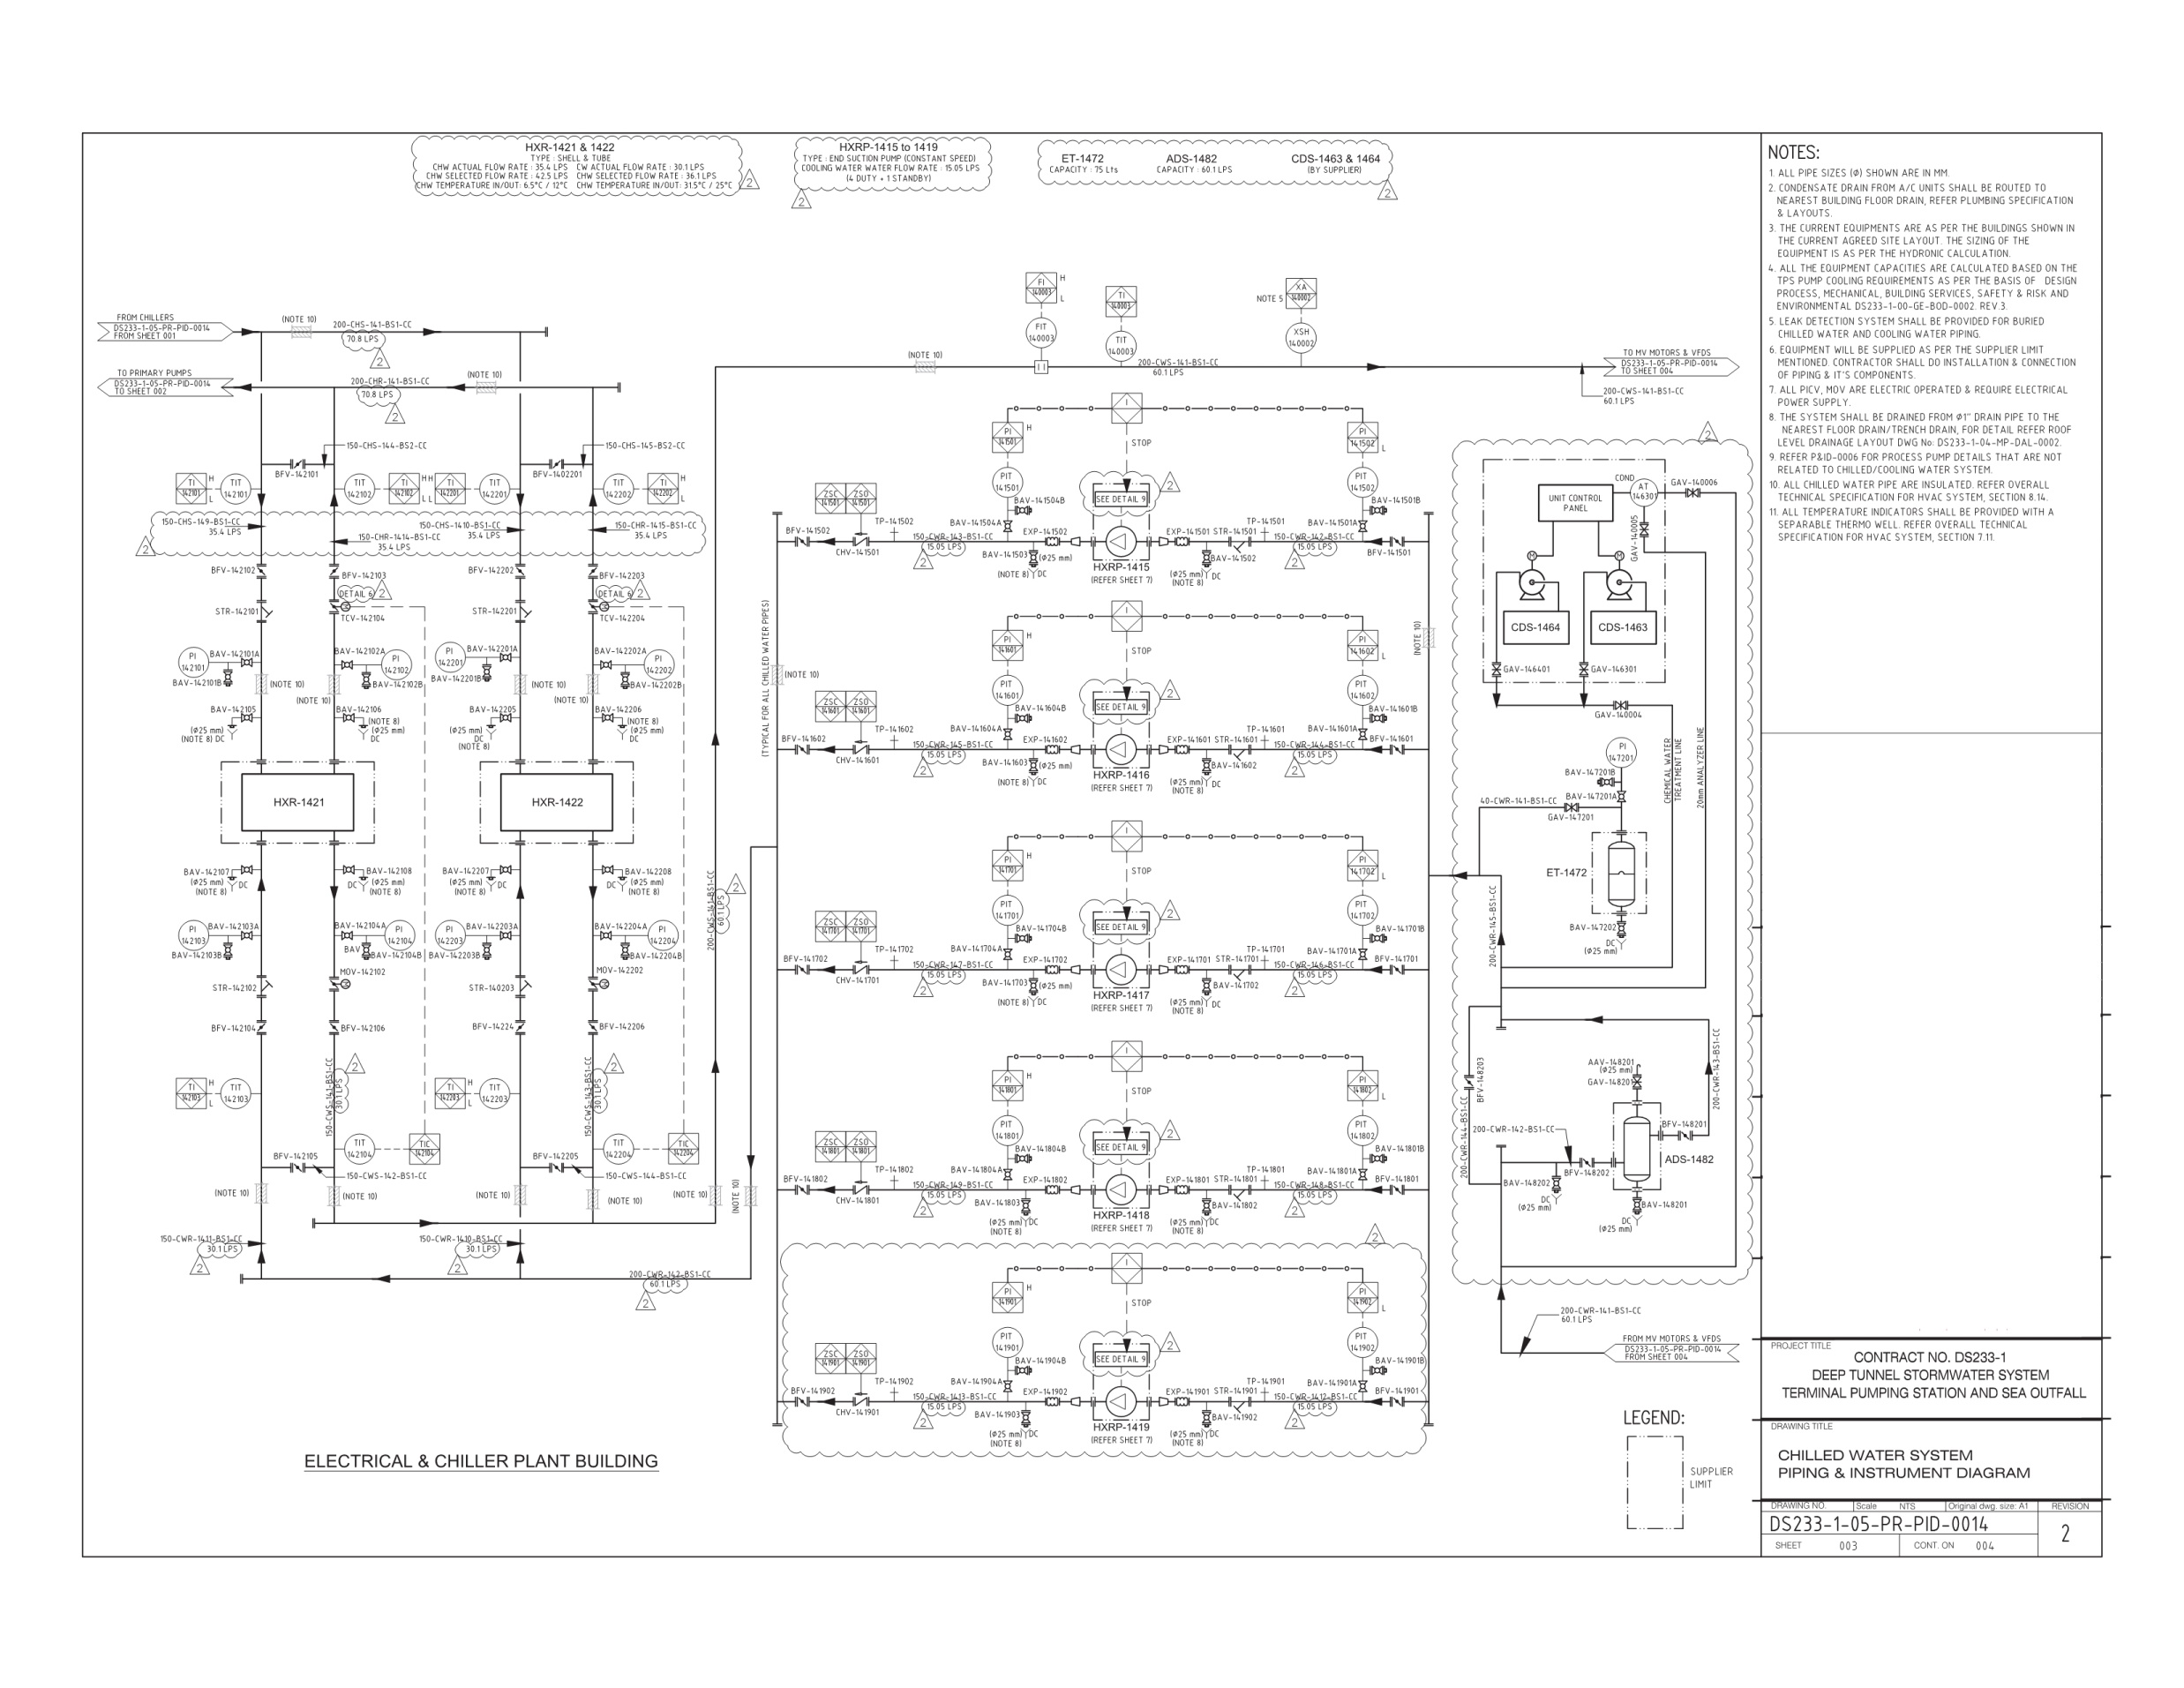Inlinel Instrument: (218, 472, 253, 507), (342, 472, 378, 507), (477, 470, 512, 505), (601, 470, 636, 505), (642, 645, 677, 681), (433, 638, 468, 674), (379, 647, 415, 683), (383, 917, 418, 952), (433, 917, 468, 952), (218, 1075, 253, 1110), (342, 1131, 378, 1167), (479, 1075, 514, 1110), (601, 1131, 636, 1167), (647, 917, 683, 952), (1345, 463, 1381, 498), (991, 672, 1026, 707), (1345, 672, 1381, 707), (1345, 892, 1381, 927), (1345, 1112, 1381, 1147), (1627, 477, 1663, 512), (1285, 321, 1321, 356), (1104, 328, 1140, 363), (1025, 316, 1060, 351), (1345, 1325, 1381, 1360), (177, 644, 211, 679), (993, 465, 1026, 500), (991, 892, 1025, 927), (991, 1114, 1026, 1147), (1604, 734, 1640, 768), (991, 1323, 1025, 1358), (177, 917, 211, 950)
